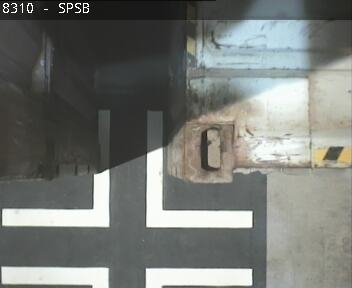groundmarker_1: (2, 112, 252, 226)
